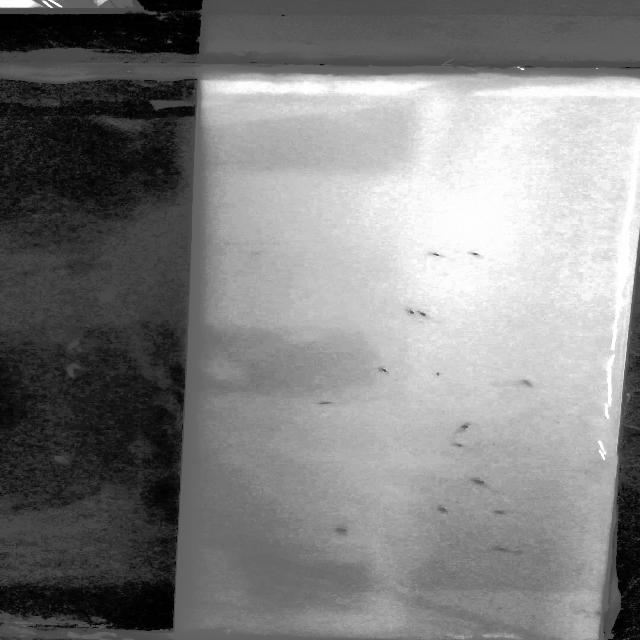shrimp: (509, 376, 541, 391), (424, 248, 450, 261), (315, 400, 356, 408), (331, 528, 366, 537), (494, 544, 522, 554), (455, 421, 474, 435), (486, 510, 512, 520), (470, 476, 490, 486), (431, 371, 450, 381), (416, 311, 436, 320), (378, 366, 398, 375), (462, 251, 484, 259), (402, 308, 418, 319), (438, 504, 455, 514), (448, 442, 467, 448)
